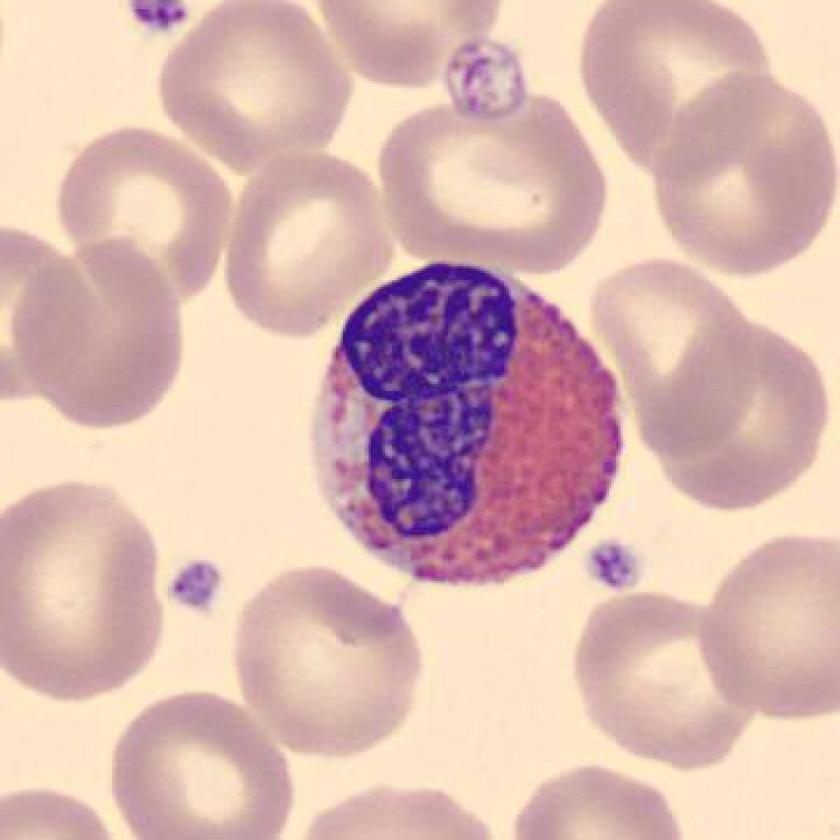eosinophil: (295, 249, 643, 605)
